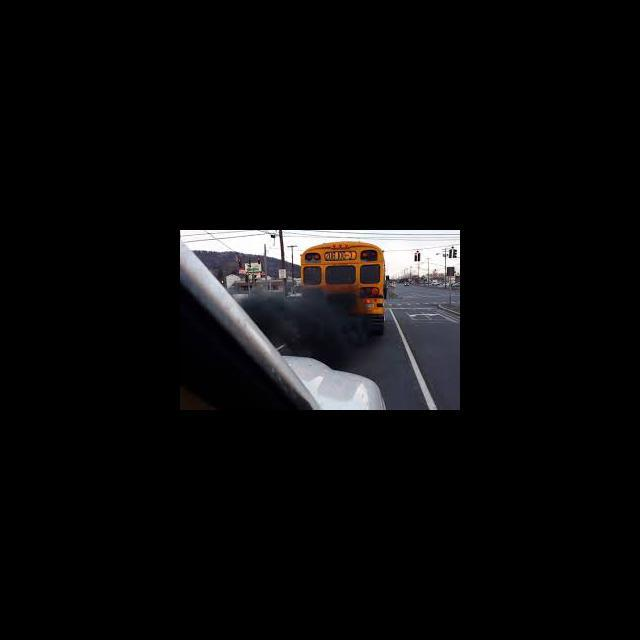Smoke: (249, 292, 364, 350)
